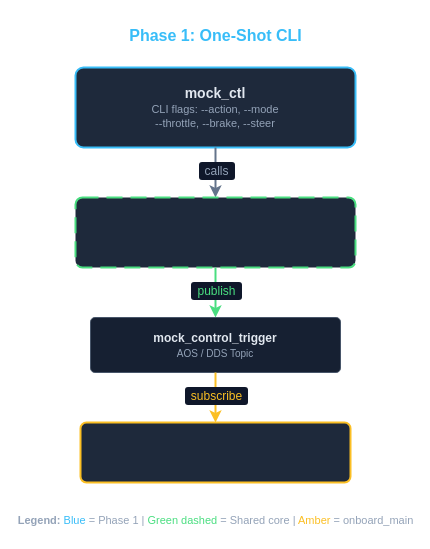
This 430x549 diagram has some shape labels left out. The box of each missing label's shape, as (x1, y1, x2, y2) in pixels:
MockControl Component Running in onboard_main: (79, 421, 351, 483)
MockControlSender Shared core library AOS node + DDS publisher: (74, 196, 356, 268)
